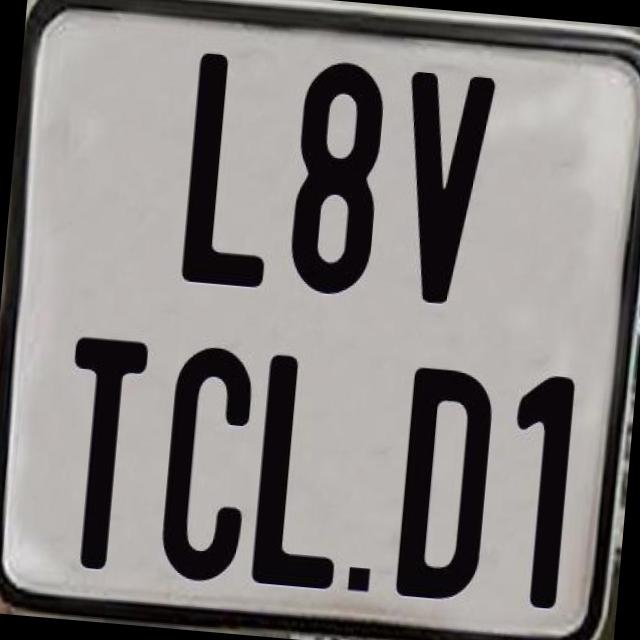1: (500, 371, 576, 610)
8: (282, 55, 390, 296)
C: (157, 340, 260, 581)
D: (391, 364, 497, 600)
L: (247, 352, 354, 596), (179, 49, 286, 288)
T: (54, 334, 154, 572)
V: (390, 66, 501, 304)
